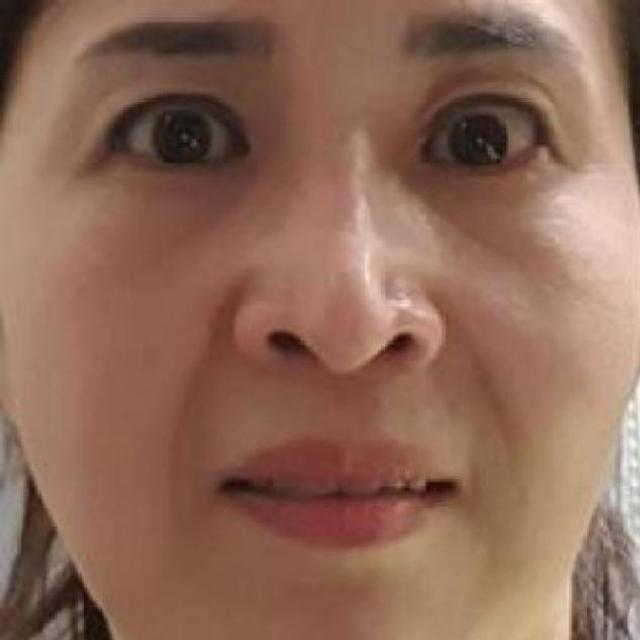Angry: (49, 28, 640, 640)
